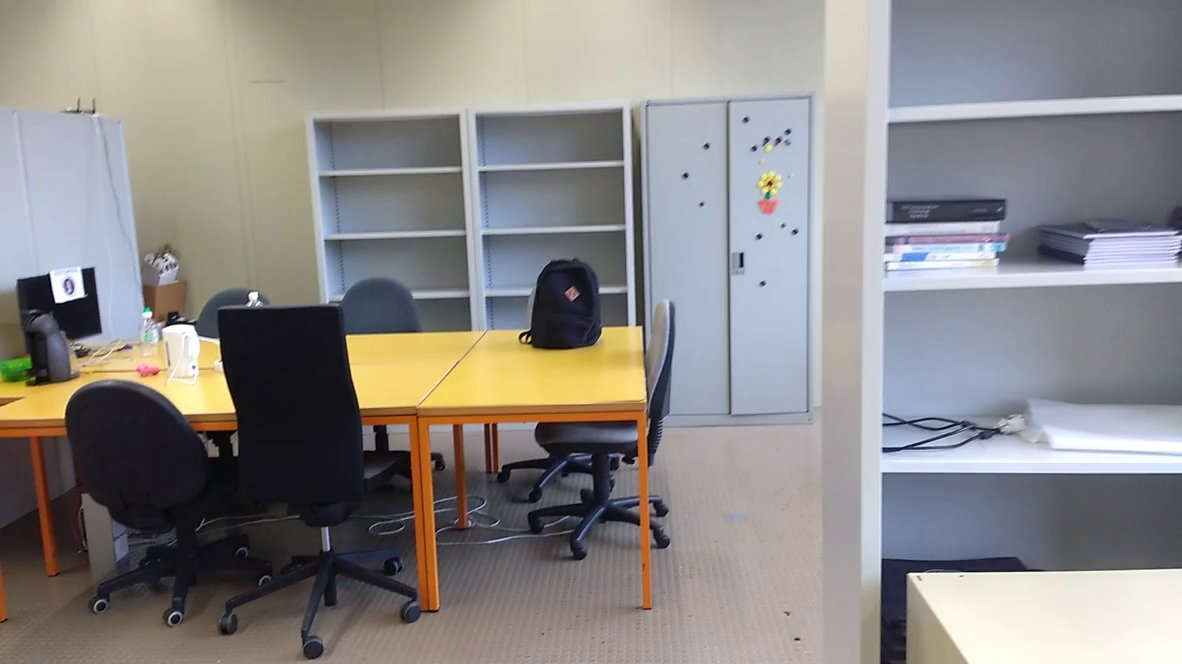bag: (515, 251, 608, 354)
chair: (203, 293, 451, 655), (48, 357, 272, 650), (534, 293, 695, 565), (324, 275, 428, 349)
